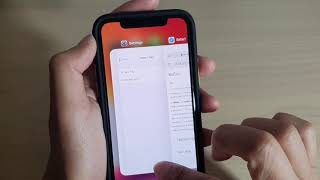Cell Phone: (93, 13, 208, 180)
